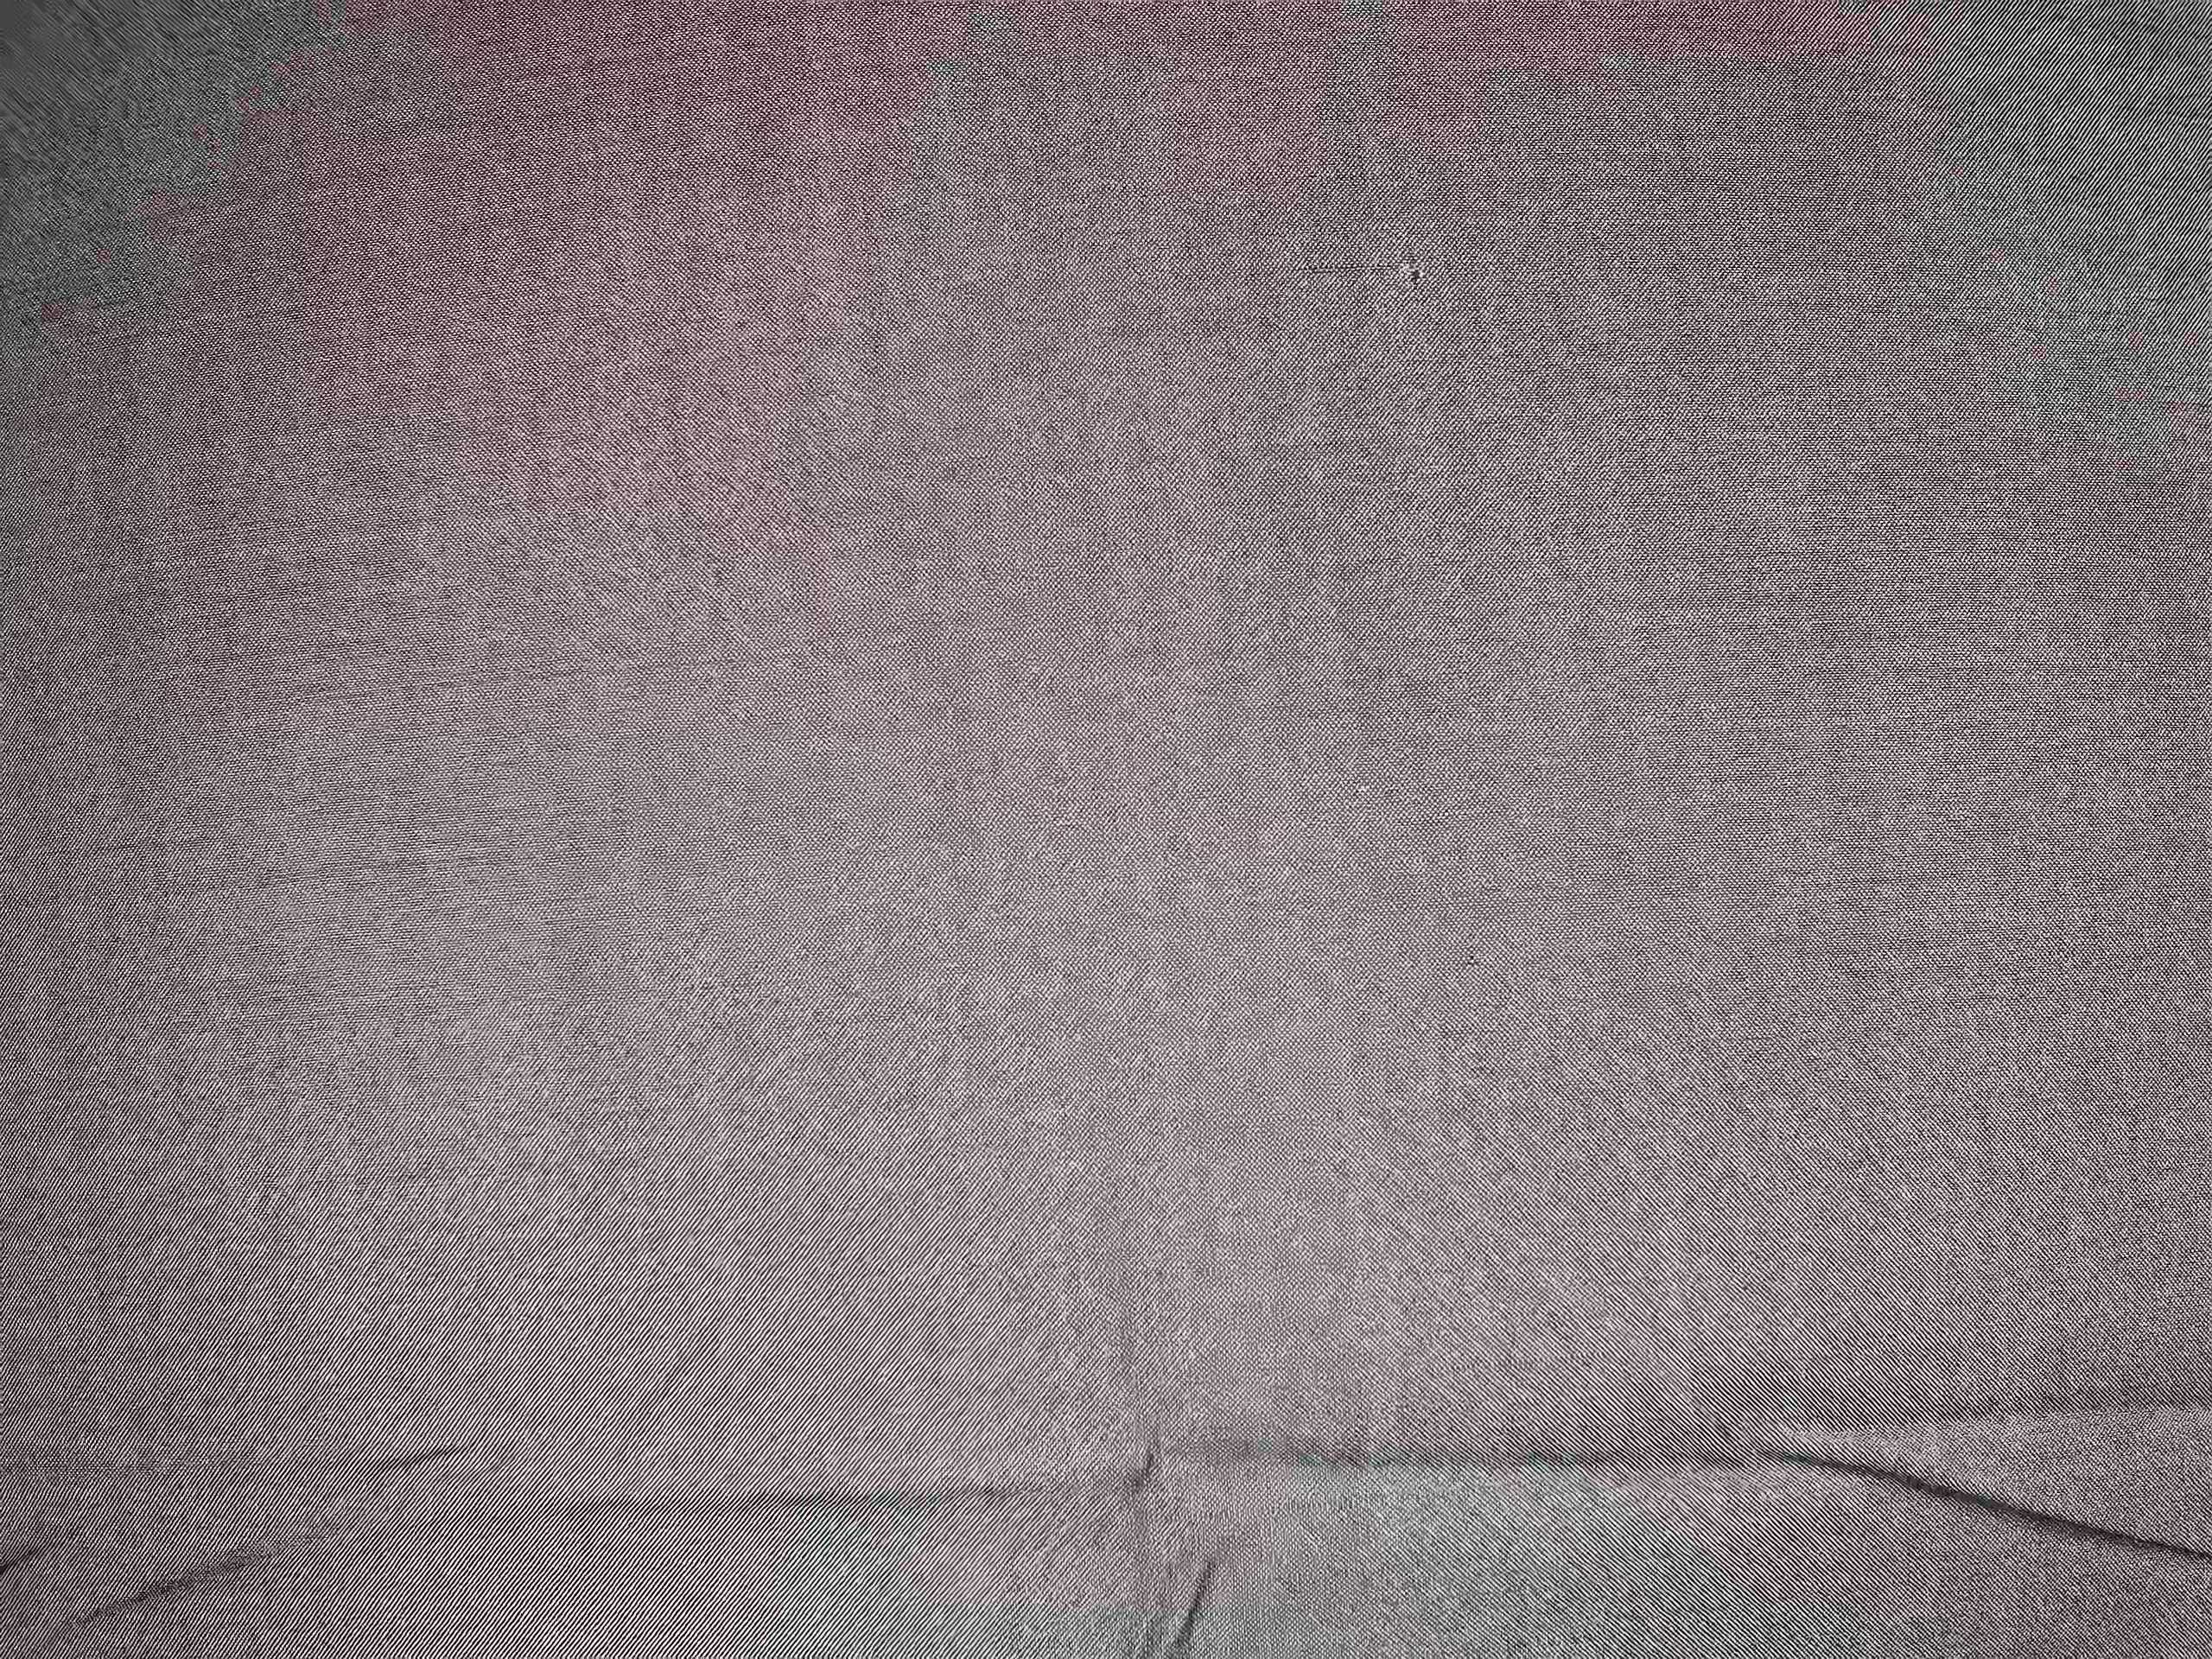rubbing-hole: (1364, 235, 1463, 301)
